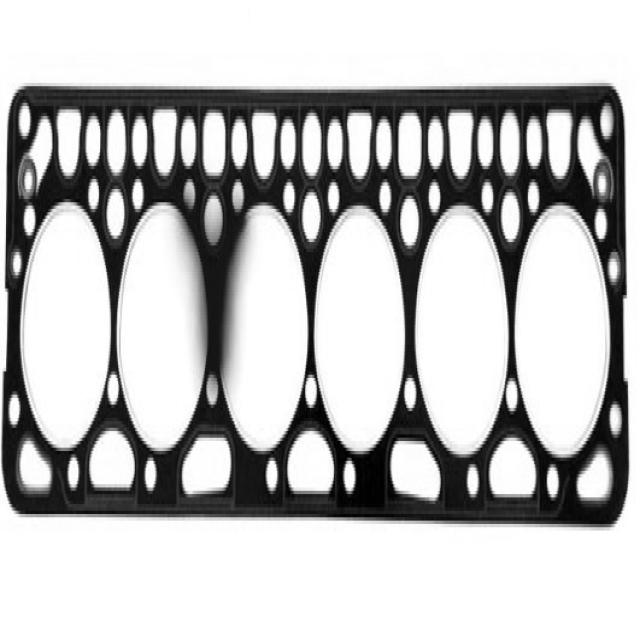burnt: (184, 174, 250, 464)
